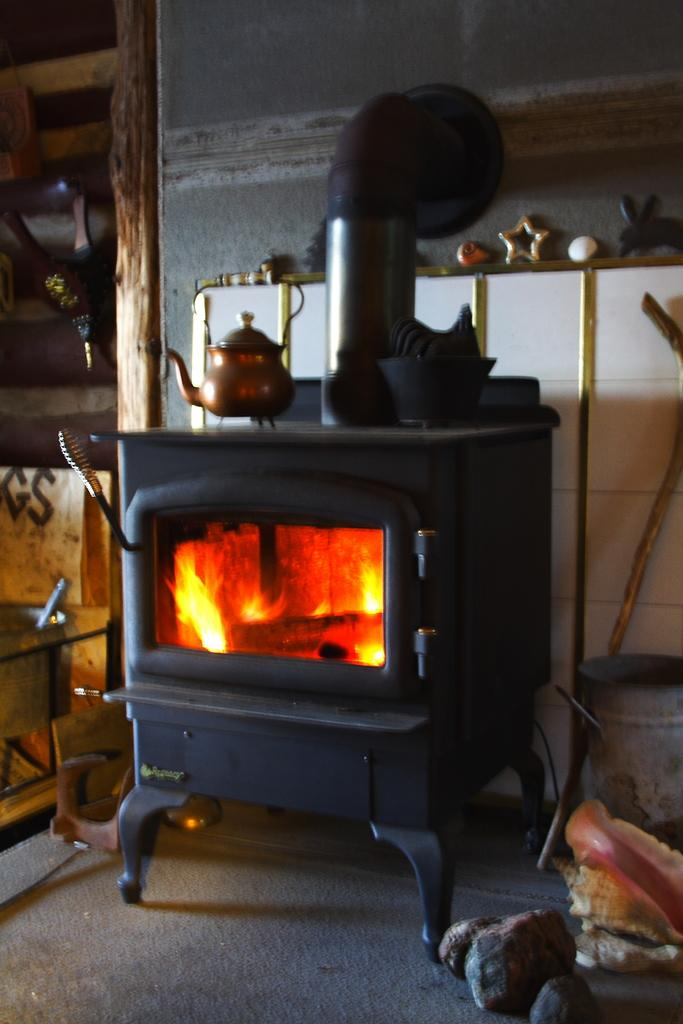Fire: (161, 512, 384, 669)
